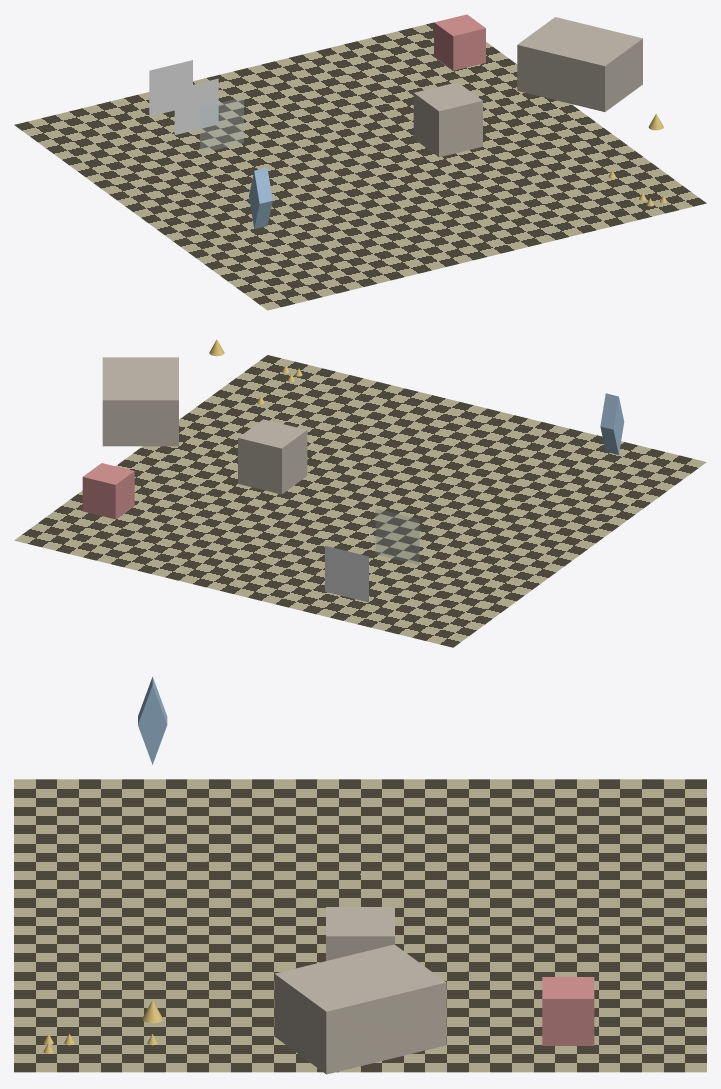
Rendered from level.glb.
The picture shows the model from 3 angles, top to bottom: view 1: azimuth 30°, elevation 25°; view 2: azimuth 150°, elevation 25°; view 3: azimuth 270°, elevation 25°; orthographic projection. The views are drawn at different scales.
Visible parts, largest first — view 1: Ground, Building_Linked, Building, Mirrored, CulledPanel, GlassPane, OpenPanel, ShearChild; view 2: Ground, Building_Linked, Building, Mirrored, OpenPanel, GlassPane, ShearChild; view 3: Ground, Building_Linked, Mirrored, Building, ShearChild.
Part boxes in pixels (left/top/right/bottom): Ground: left=14, top=22, right=706, bottom=310; Building_Linked: left=517, top=17, right=642, bottom=111; Building: left=413, top=82, right=482, bottom=157; Mirrored: left=434, top=14, right=485, bottom=70; CulledPanel: left=174, top=78, right=218, bottom=134; GlassPane: left=200, top=97, right=243, bottom=153; OpenPanel: left=149, top=60, right=192, bottom=116; ShearChild: left=249, top=167, right=272, bottom=228; Ground: left=14, top=355, right=706, bottom=647; Building_Linked: left=102, top=357, right=178, bottom=446; Building: left=238, top=419, right=307, bottom=494; Mirrored: left=82, top=463, right=134, bottom=519; OpenPanel: left=325, top=546, right=368, bottom=602; GlassPane: left=376, top=509, right=419, bottom=564; ShearChild: left=600, top=393, right=624, bottom=454; Ground: left=14, top=779, right=706, bottom=1072; Building_Linked: left=274, top=944, right=446, bottom=1074; Mirrored: left=542, top=977, right=594, bottom=1045; Building: left=326, top=907, right=394, bottom=960; ShearChild: left=138, top=677, right=167, bottom=764.
Bounding box in the file's own units: 22.3 × 4.37 × 20.
Materials: 8 (1 with a texture image).
